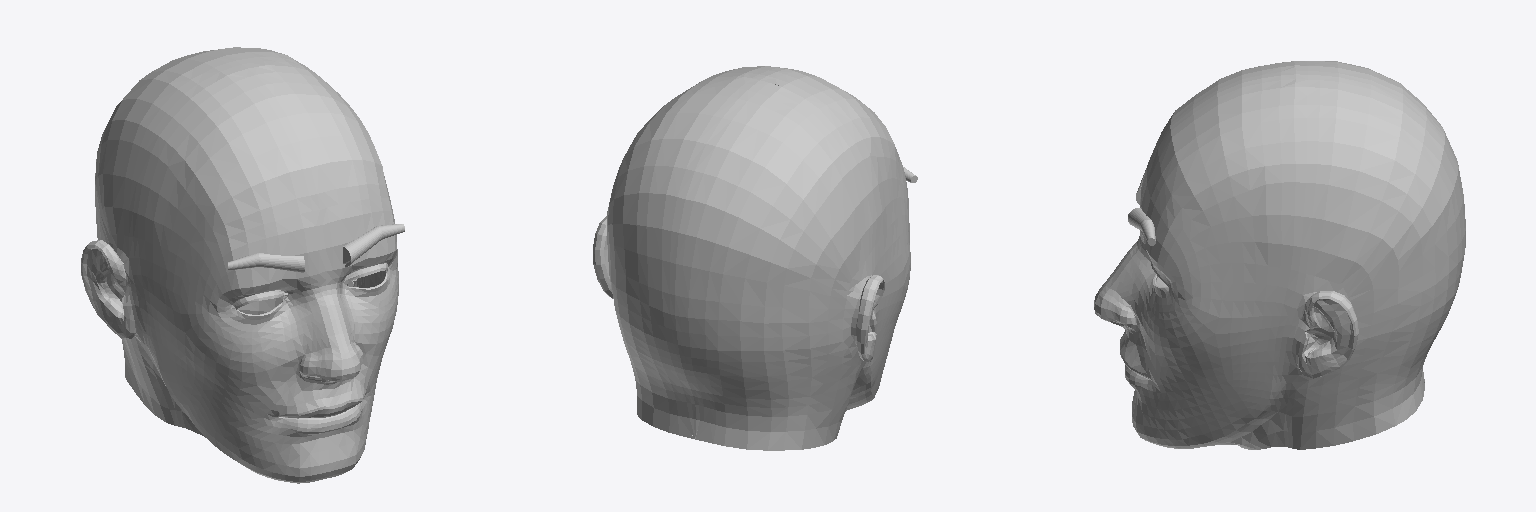
The picture shows the model from 3 angles: view 1: azimuth 30°, elevation 25°; view 2: azimuth 150°, elevation 25°; view 3: azimuth 270°, elevation 25°; orthographic projection.
Visible parts, largest first — view 1: male_head.obj, Cylinder, Cylinder.001; view 2: male_head.obj; view 3: male_head.obj, Cylinder.001.
Part boxes in pixels (bbox=[...]): male_head.obj: bbox=[81, 47, 398, 483]; Cylinder: bbox=[228, 253, 304, 272]; Cylinder.001: bbox=[343, 224, 404, 266]; male_head.obj: bbox=[593, 66, 910, 450]; male_head.obj: bbox=[1094, 61, 1465, 449]; Cylinder.001: bbox=[1128, 208, 1155, 245].
Bounding box in the file's own units: 3.06 × 3.82 × 3.54.